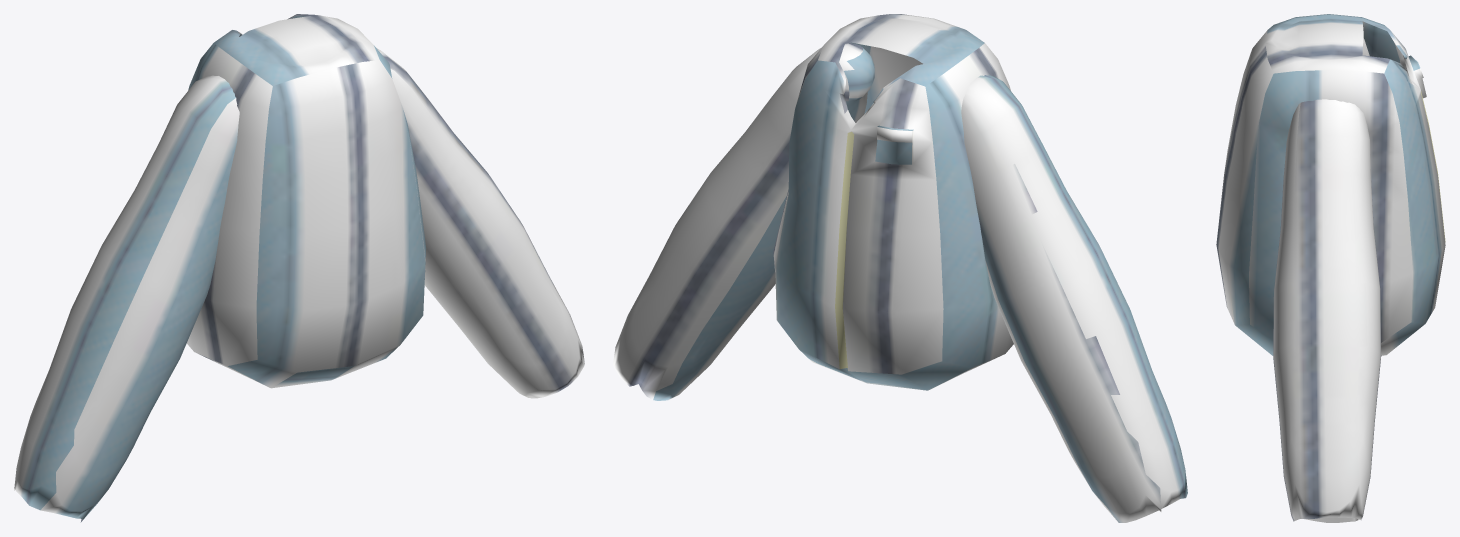
File: item-bryces-sleepytime-fit.glb
3 views of the same model, side by side, from view 1: azimuth 30°, elevation 25°; view 2: azimuth 150°, elevation 25°; view 3: azimuth 270°, elevation 25° (orthographic). The views are drawn at different scales.
Bounding box in the file's own units: 0.1652 × 0.1209 × 0.0632.
Materials: 3 (1 with a texture image).
